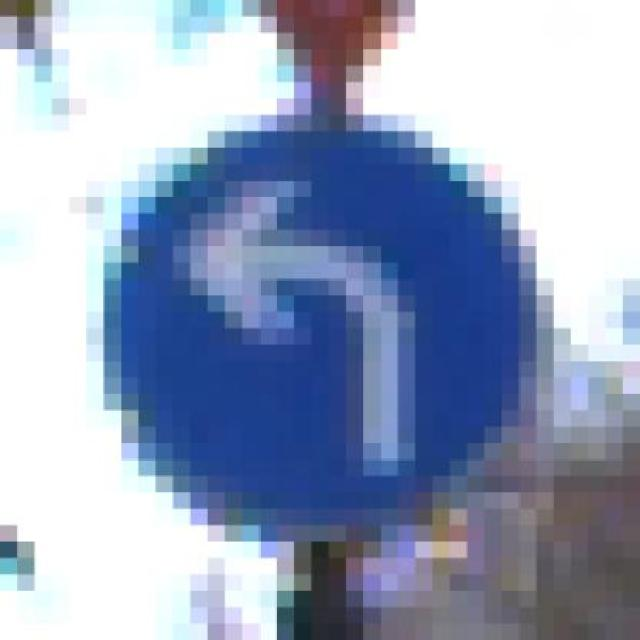Turn left ahead: (69, 115, 571, 542)
